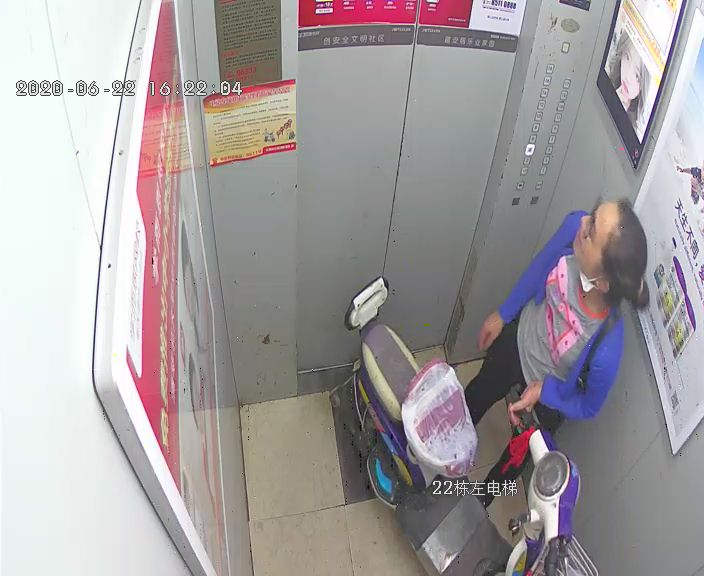Electric-bicycle: (337, 275, 596, 575)
